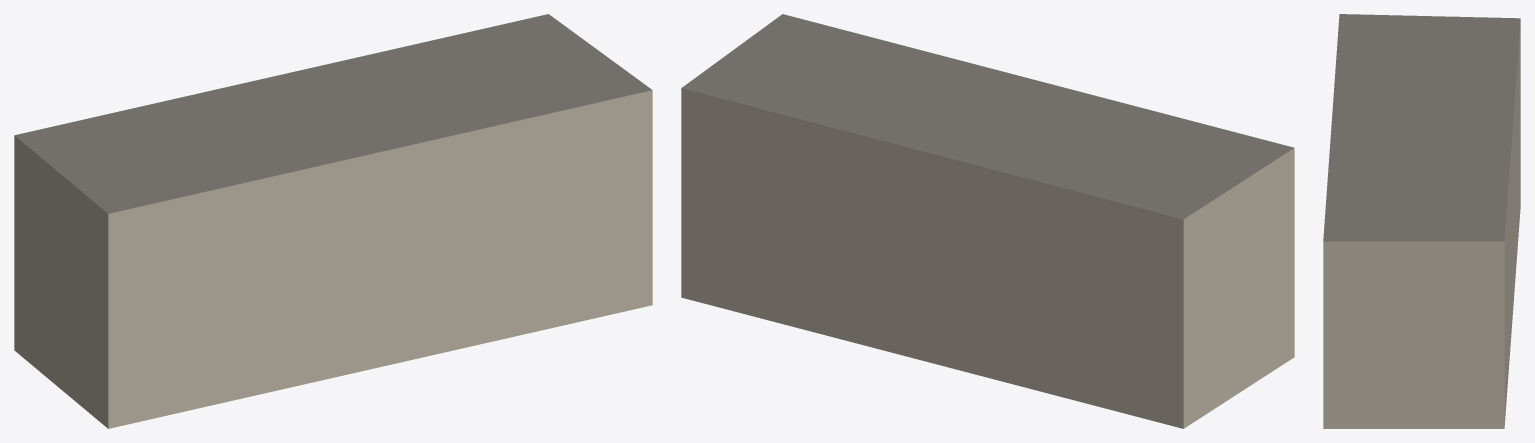
3 views of the same model, side by side, from view 1: azimuth 30°, elevation 25°; view 2: azimuth 150°, elevation 25°; view 3: azimuth 270°, elevation 25° (orthographic). The views are drawn at different scales.
Visible parts, largest first — view 1: HP-w505664434; view 2: HP-w505664434; view 3: HP-w505664434.
Boxes of the visible parts, x1=… form: HP-w505664434: x1=14, y1=14, x2=652, y2=428; HP-w505664434: x1=681, y1=14, x2=1294, y2=428; HP-w505664434: x1=1323, y1=14, x2=1520, y2=428.
Size of the model in its own units: 39.05 by 15 by 14.32.
